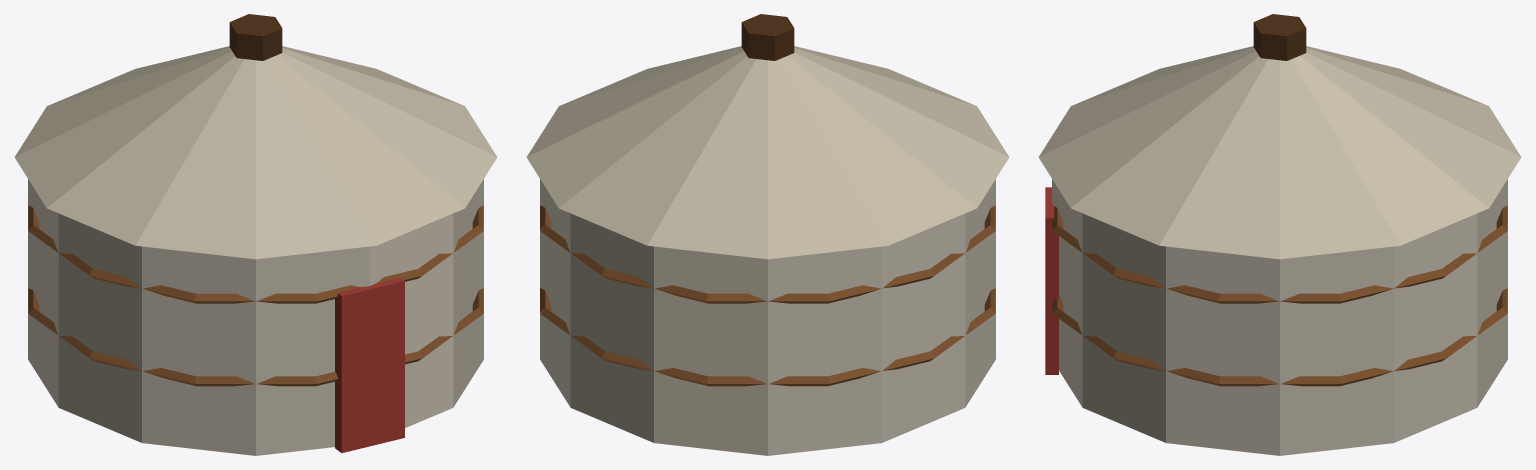
The model's file is orc_house_a.glb.
3 views of the same model, side by side, from view 1: azimuth 30°, elevation 25°; view 2: azimuth 150°, elevation 25°; view 3: azimuth 270°, elevation 25° (orthographic).
Visible parts, largest first — view 1: orc_house_a; view 2: orc_house_a; view 3: orc_house_a.
Part boxes in pixels (left/top/right/bottom): orc_house_a: left=14, top=14, right=497, bottom=455; orc_house_a: left=526, top=14, right=1009, bottom=455; orc_house_a: left=1038, top=14, right=1521, bottom=455.
Size of the model in its own units: 2.12 by 1.62 by 2.12.
